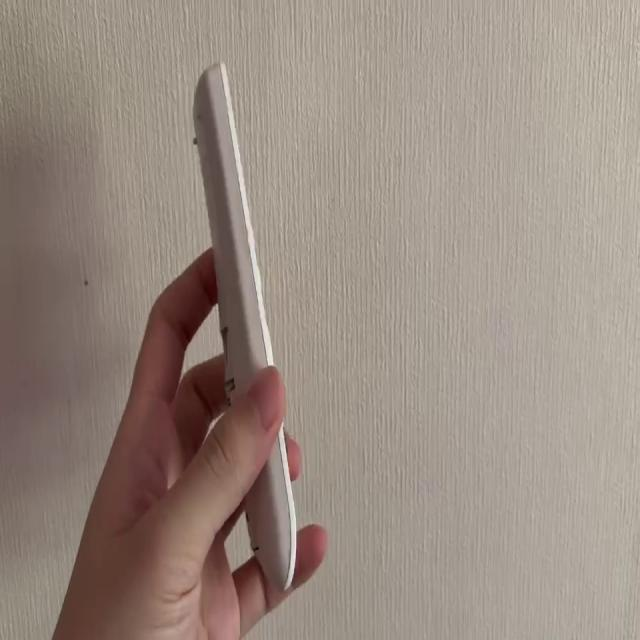remote: (194, 63, 301, 592)
